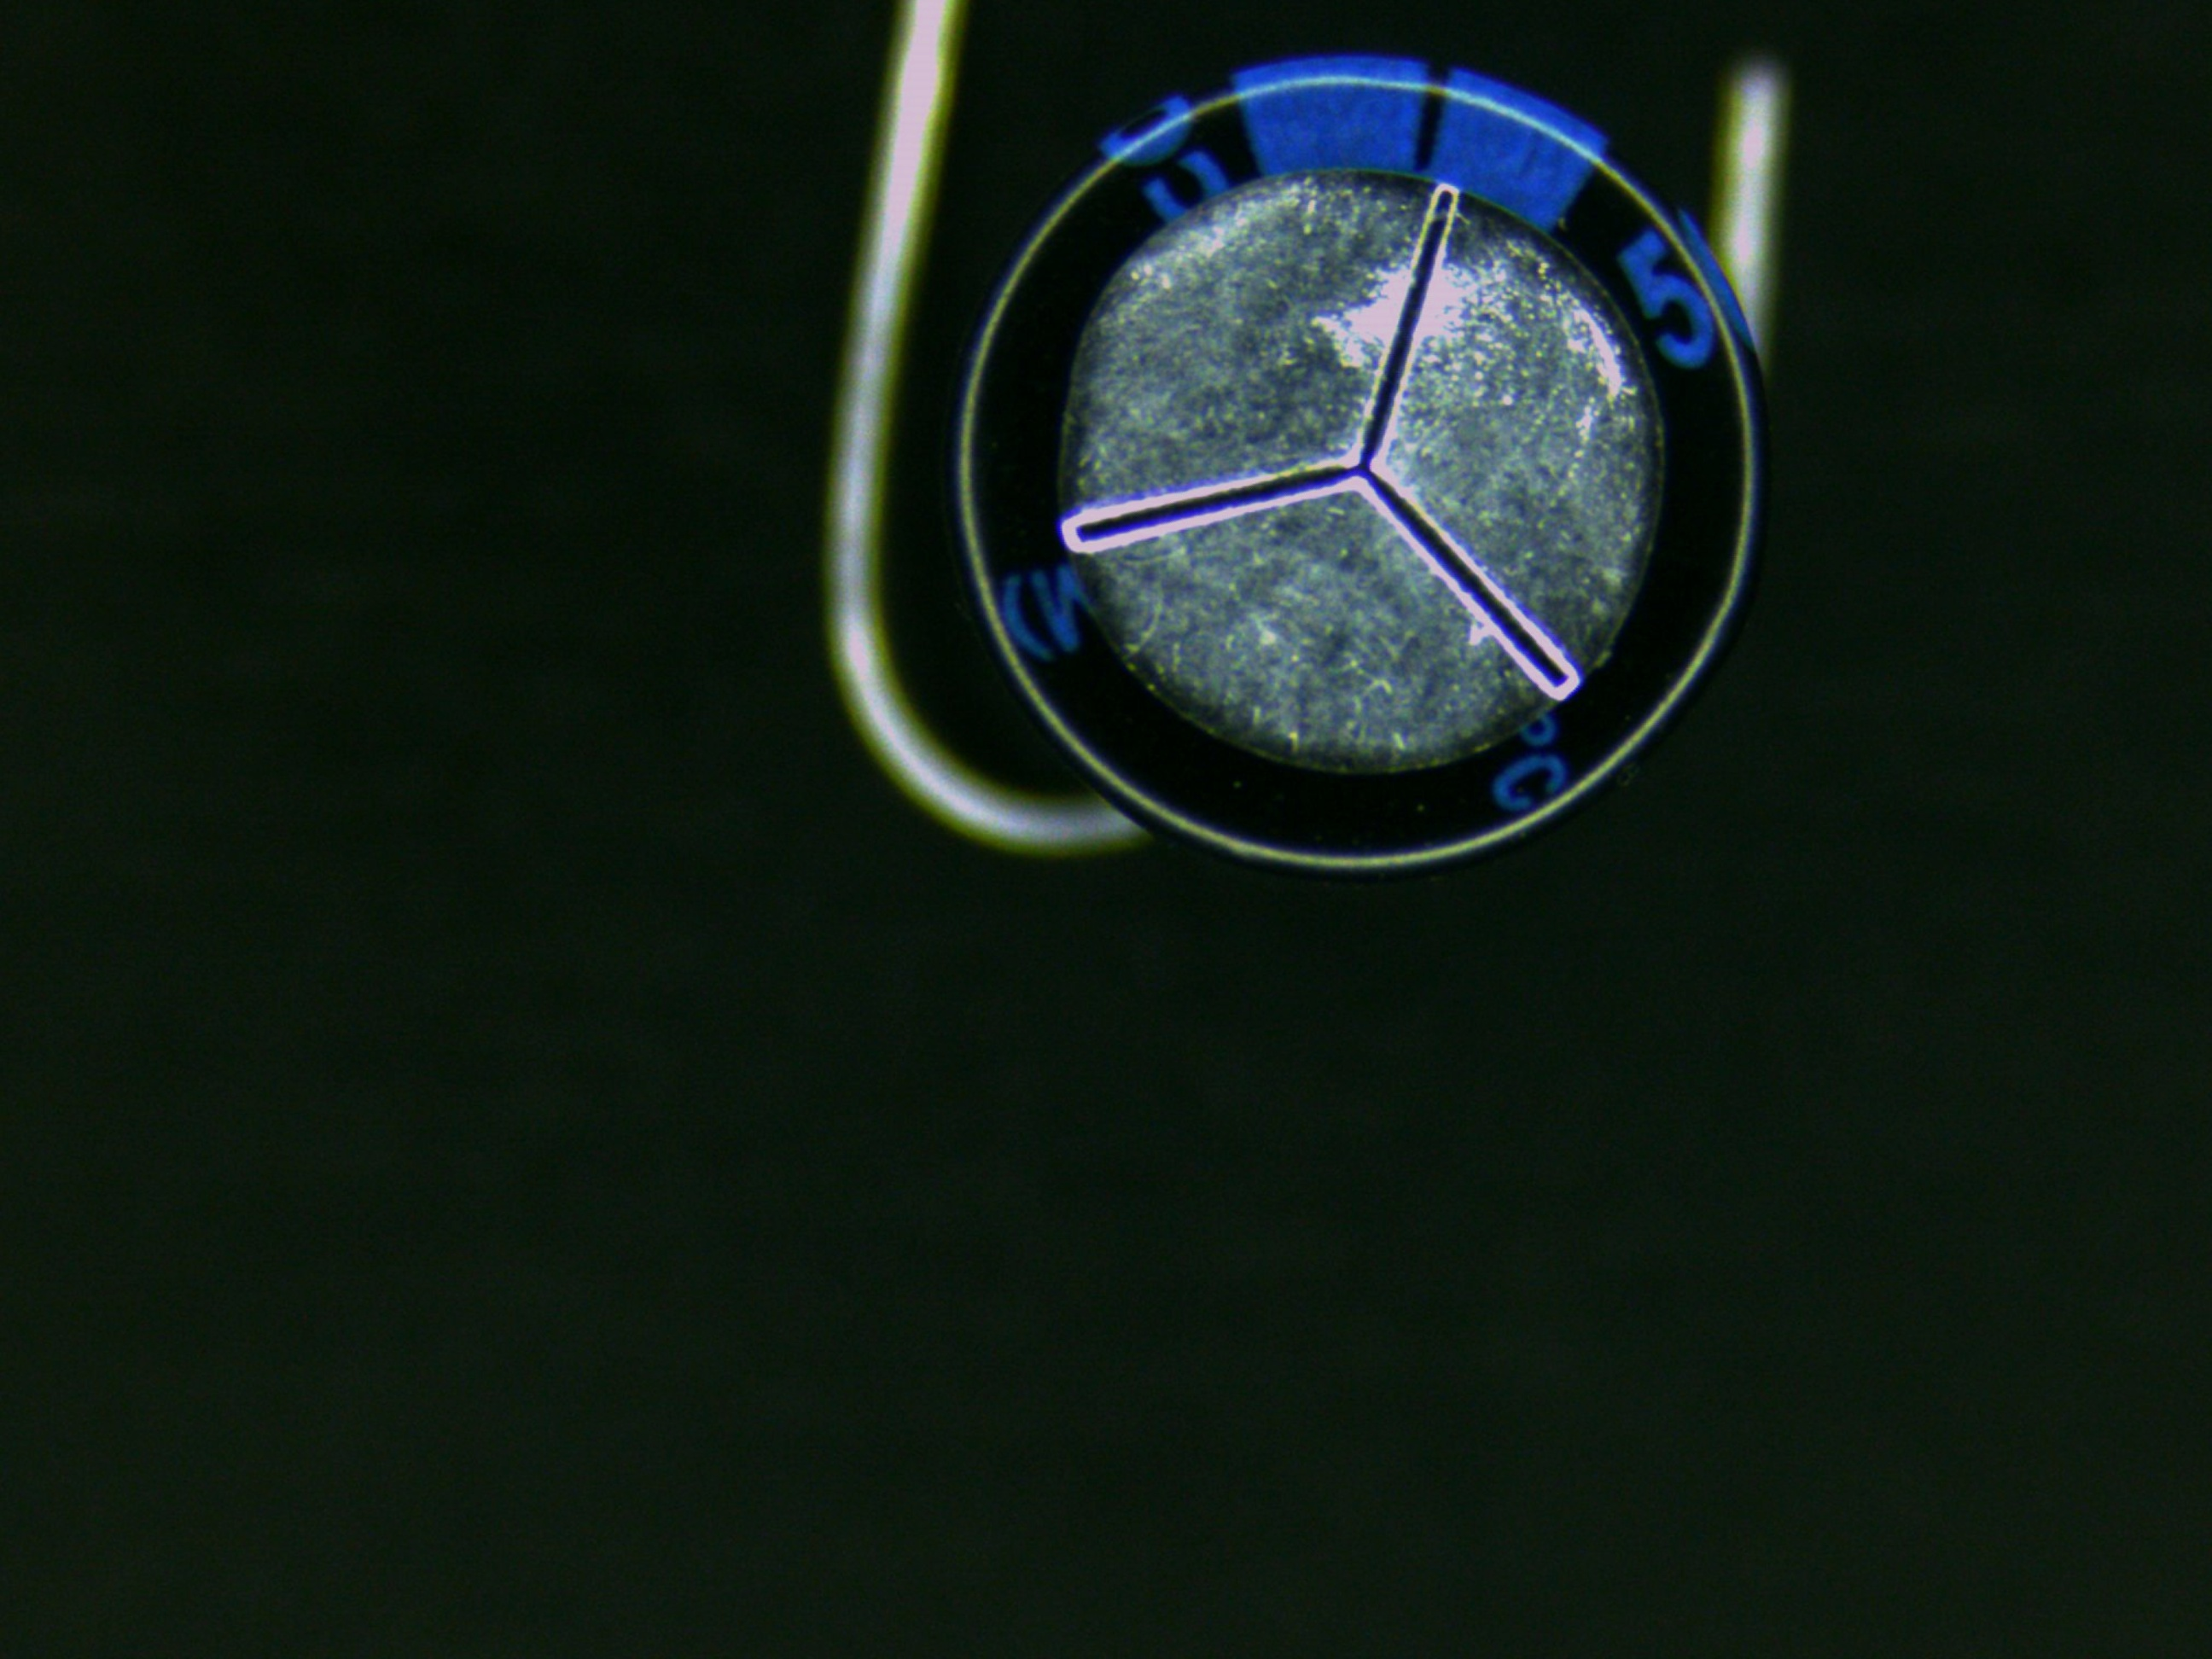c2: (970, 47, 1768, 873)
